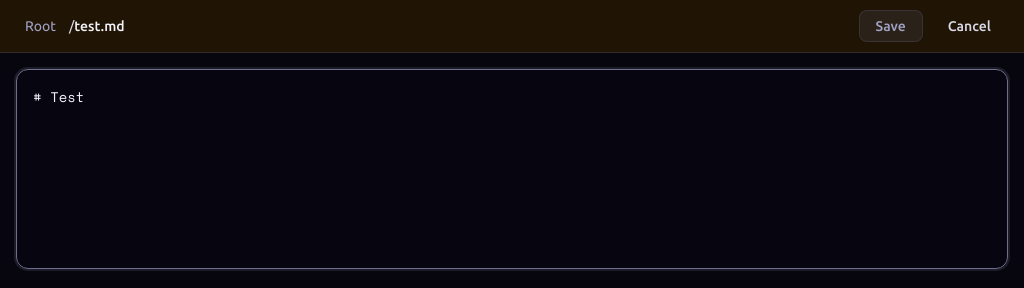
Test case: MarkdownViewer › adjust mode › Save and Cancel buttons (REQ-F-3) › exits adjust mode when Cancel clicked
This screenshot has width=1024, height=288.
Click the button with aria-label "Cancel editing" at [969, 26], box top-left (931, 10), bottom-right (1008, 42)
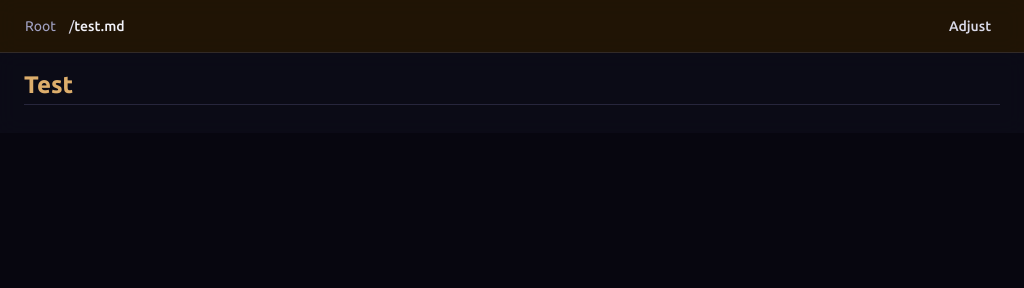
Now the button with aria-label "Adjust file" is shown, box top-left (932, 10), bottom-right (1008, 42)
